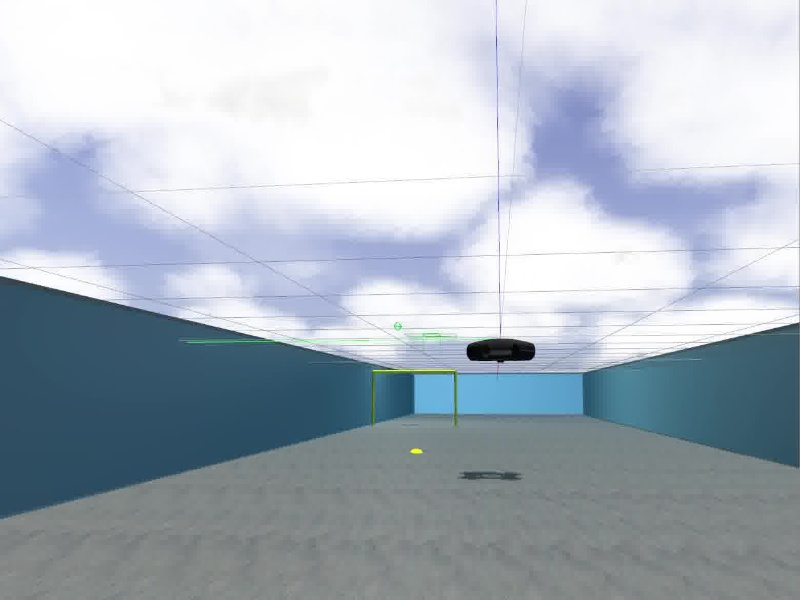gate: (369, 368, 459, 427)
